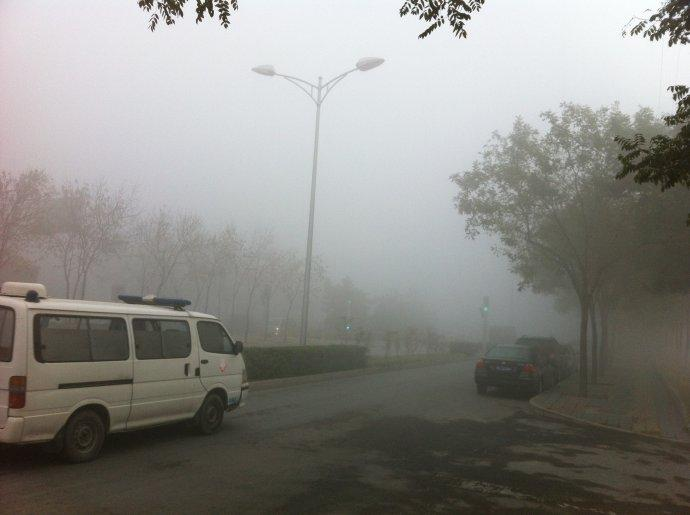bus: (1, 281, 249, 463)
car: (475, 344, 558, 396), (514, 334, 567, 385), (536, 342, 578, 381)
